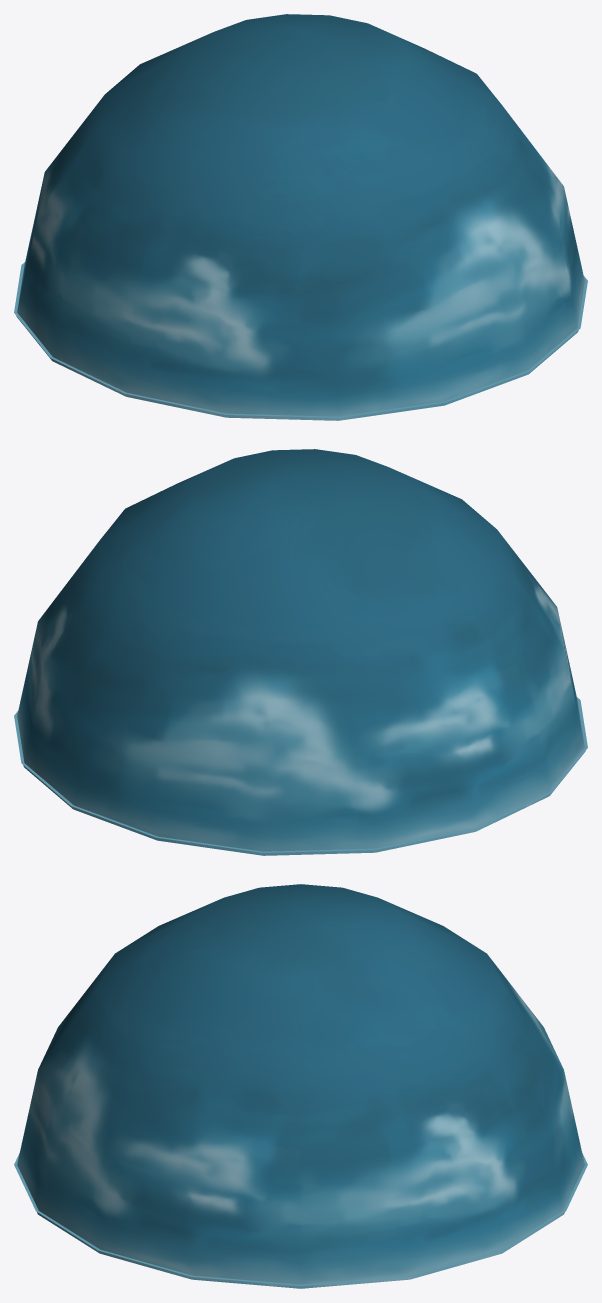
File: sky.fbx
3 views of the same model, one above another, from view 1: azimuth 30°, elevation 25°; view 2: azimuth 150°, elevation 25°; view 3: azimuth 270°, elevation 25° (orthographic).
Parts seen in each view (by area): view 1: sky; view 2: sky; view 3: sky.
Boxes of the visible parts, box(x1,y1,x2,y2) form: sky: box(14, 14, 587, 420); sky: box(14, 449, 587, 855); sky: box(14, 884, 587, 1288).
Bounding box in the file's own units: 5702 × 5702 × 2828.
